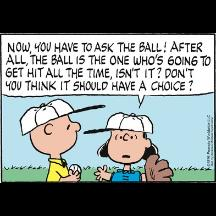charlie: (20, 98, 82, 184)
